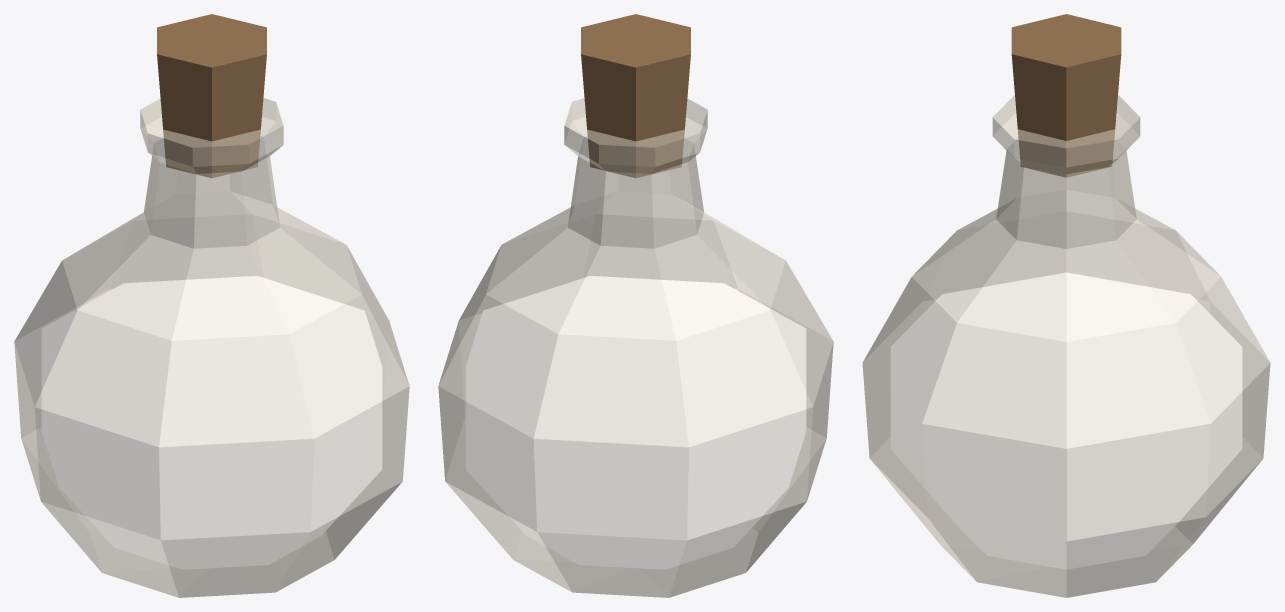
Rendered from Shot_Bottle.fbx.
3 renders of one model, left to right at view 1: azimuth 30°, elevation 25°; view 2: azimuth 150°, elevation 25°; view 3: azimuth 270°, elevation 25°, orthographic.
Parts seen in each view (by area): view 1: Glass, Liquid, Cork; view 2: Glass, Liquid, Cork; view 3: Glass, Liquid, Cork.
Boxes of the visible parts, bbox=[...] form: Glass: bbox=[14, 98, 409, 597]; Liquid: bbox=[41, 276, 382, 569]; Cork: bbox=[157, 14, 266, 177]; Glass: bbox=[438, 98, 833, 597]; Liquid: bbox=[465, 276, 806, 569]; Cork: bbox=[581, 14, 690, 177]; Glass: bbox=[862, 95, 1270, 597]; Liquid: bbox=[890, 272, 1242, 569]; Cork: bbox=[1011, 14, 1121, 177].
Bounding box in the file's own units: 1.16 × 1.64 × 1.16.
